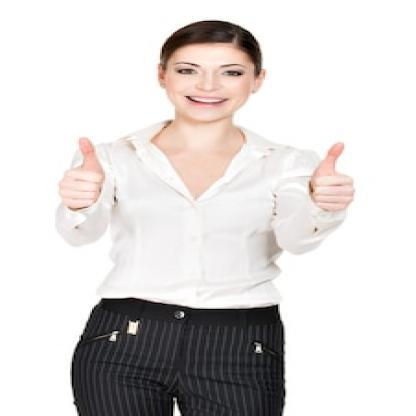thumb_up: (53, 132, 112, 214), (300, 138, 362, 214)
